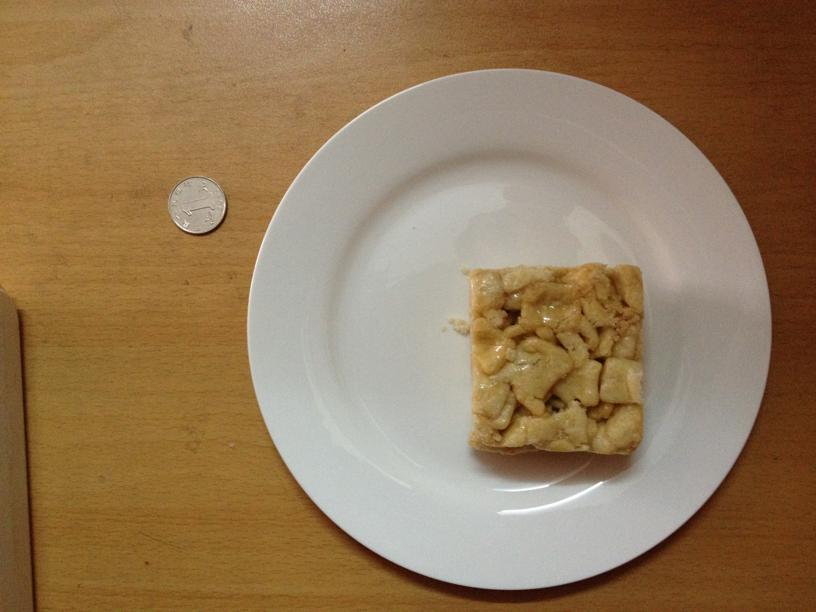coin: (164, 173, 228, 234)
sachima: (461, 266, 643, 456)
